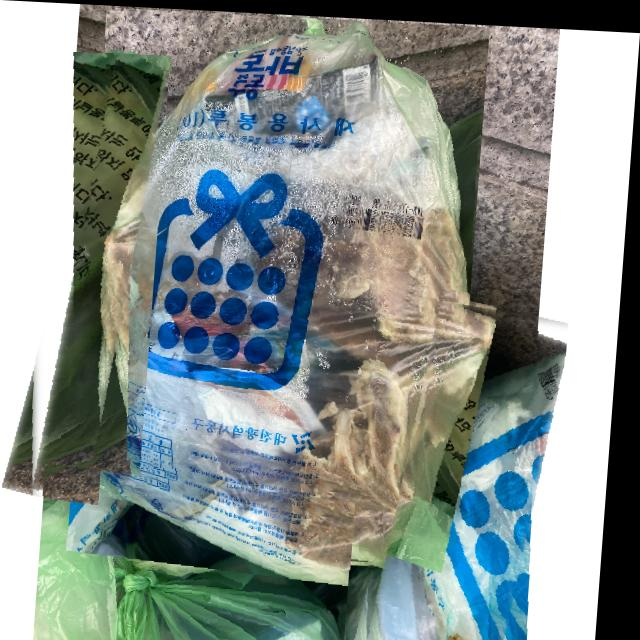general_trashbag: (77, 8, 489, 562), (374, 295, 572, 640), (35, 53, 171, 497)
other_trashbag: (43, 464, 363, 640)
